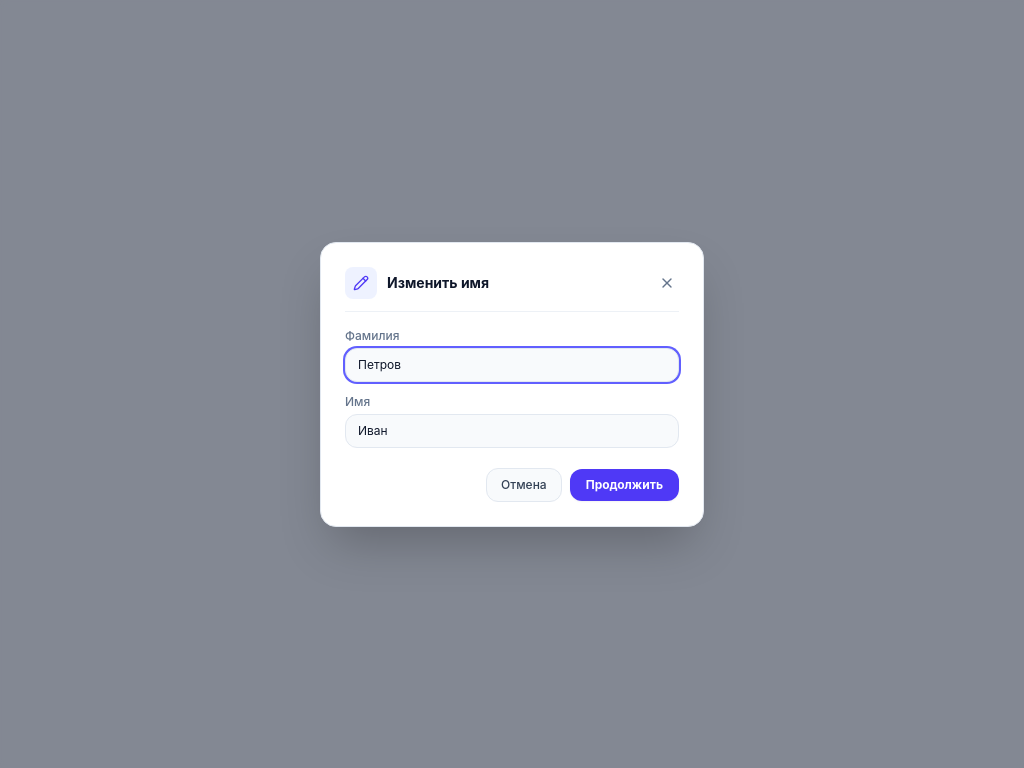
Test: RenameNameModal › показывает ошибку валидации и не переходит на шаг 2 при невалидном имени
The image size is (1024, 768).
Replace the text in the field labelled "Имя" with "Иван123" at (512, 430), box top-left (345, 414), bottom-right (679, 448)
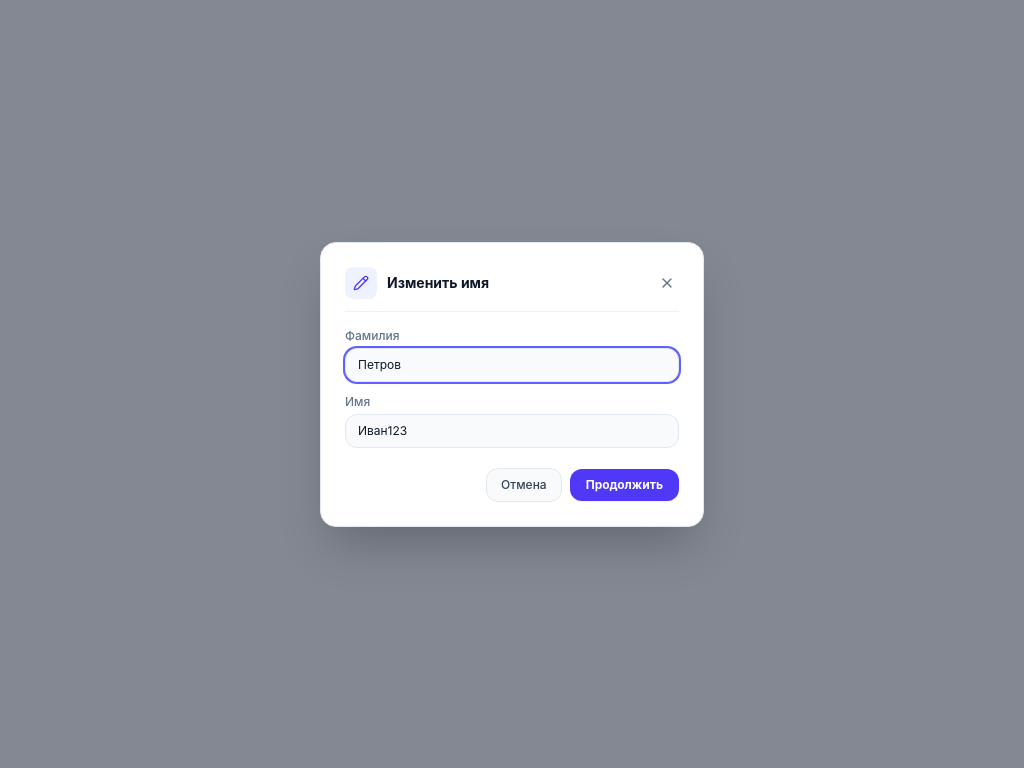
Click the button "Продолжить" at (624, 484), box top-left (570, 468), bottom-right (679, 500)
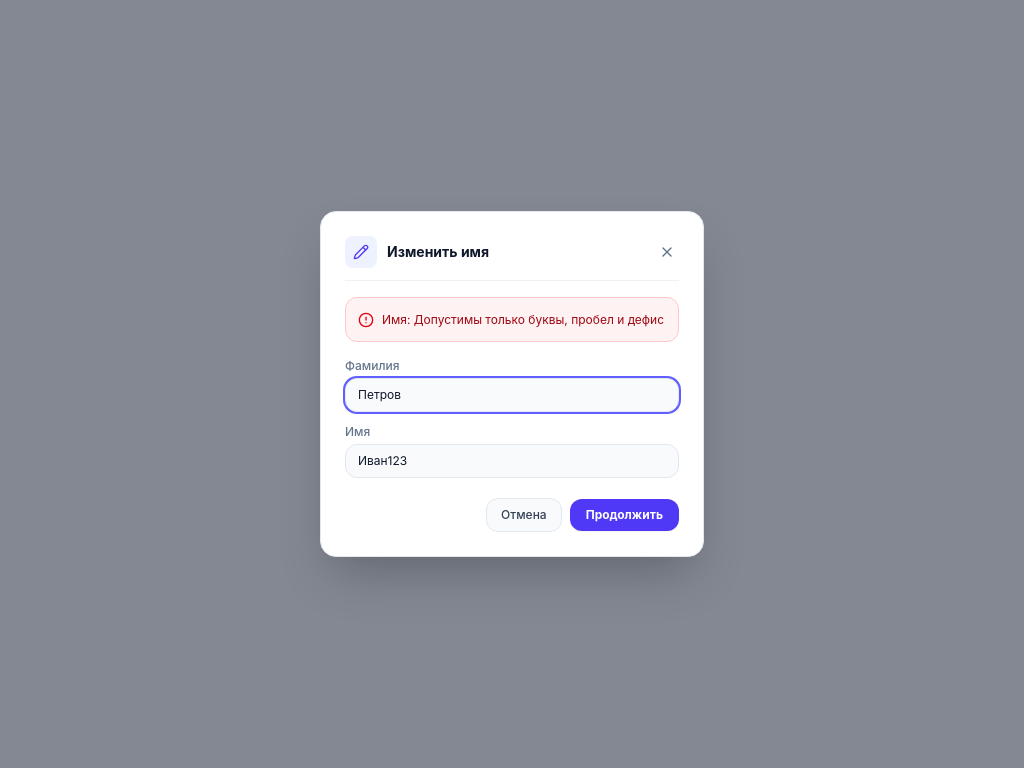
Result: the text "Имя: Допустимы только буквы, пробел и дефис" is shown at top-left (382, 310), bottom-right (664, 329)
